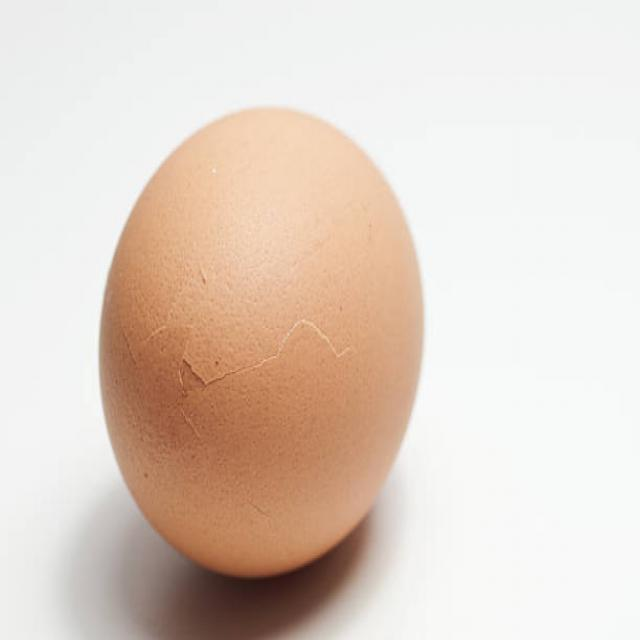biodegradable: (87, 109, 452, 588)
